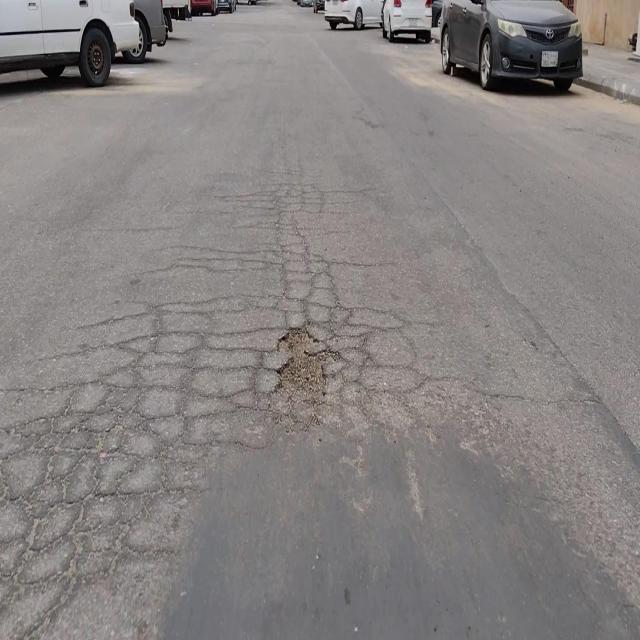Potholes: (271, 327, 334, 403)
